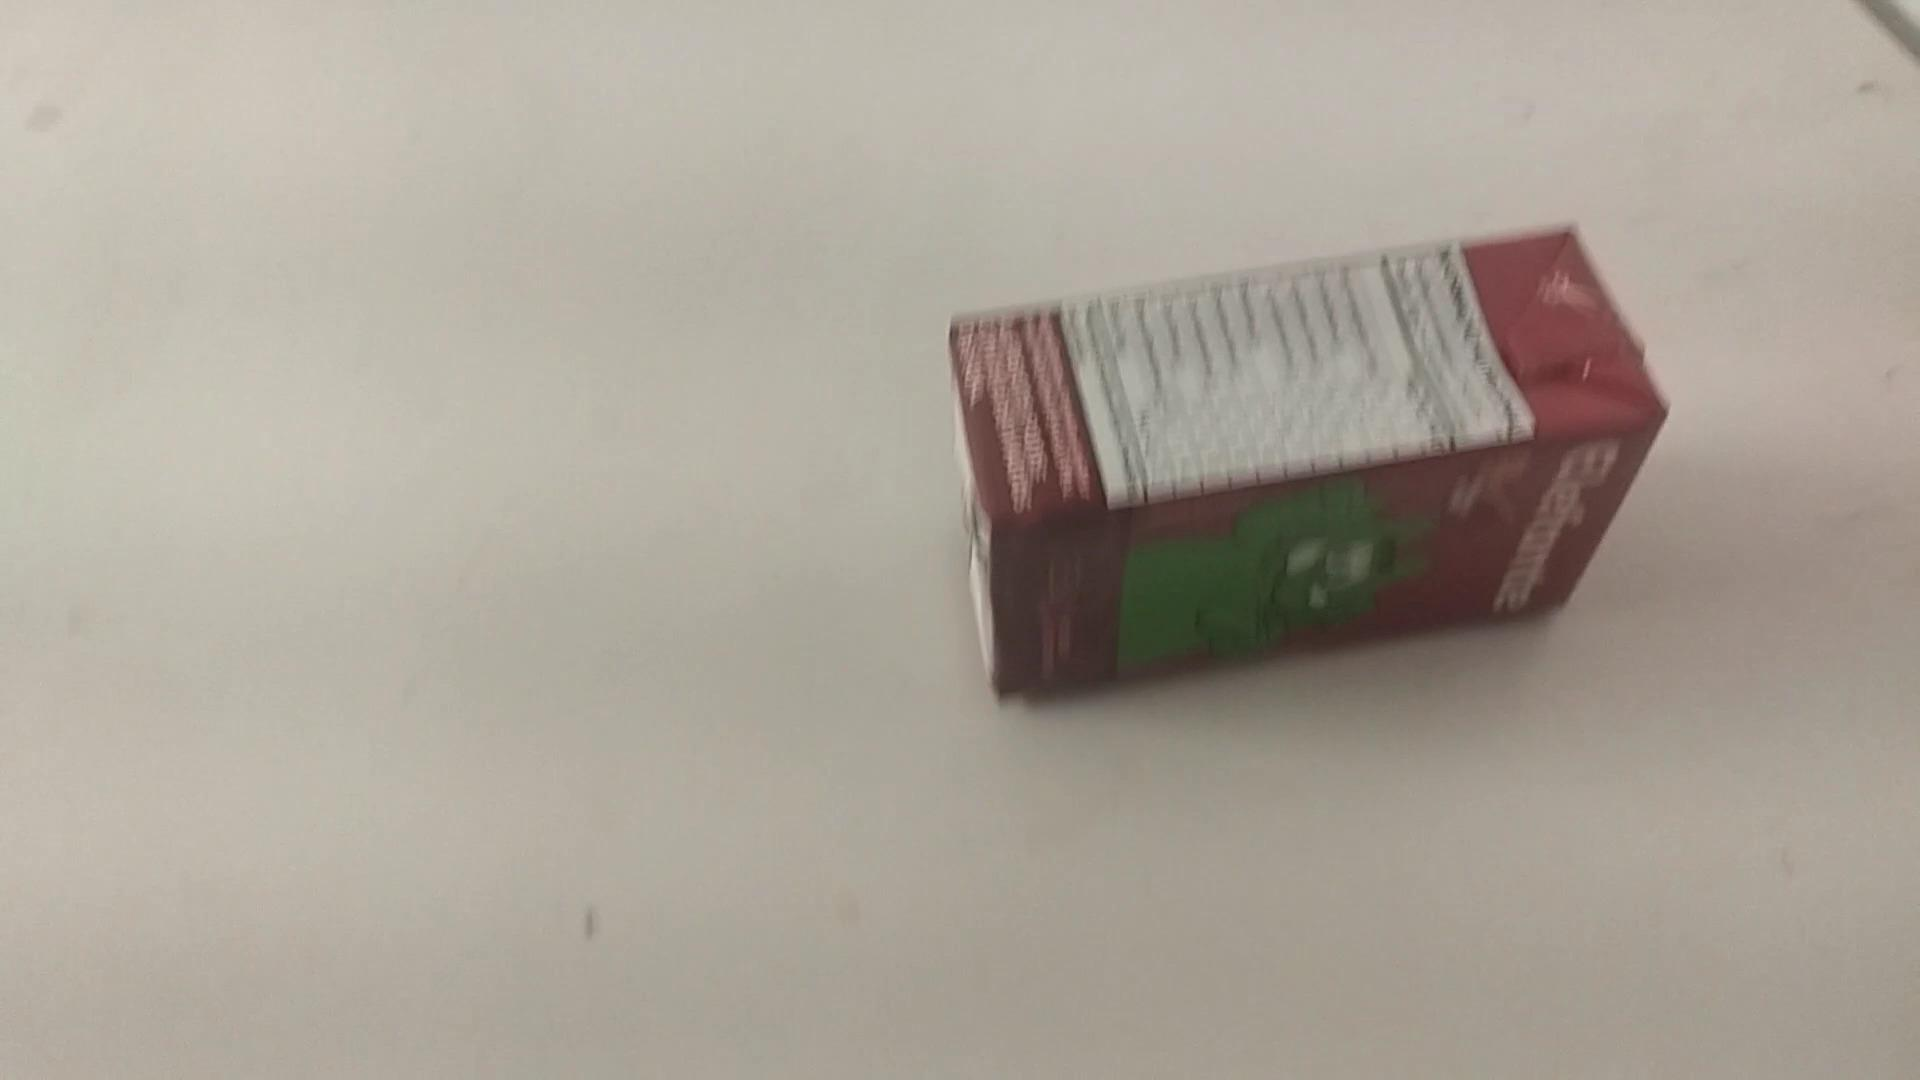tomate: (932, 220, 1677, 720)
